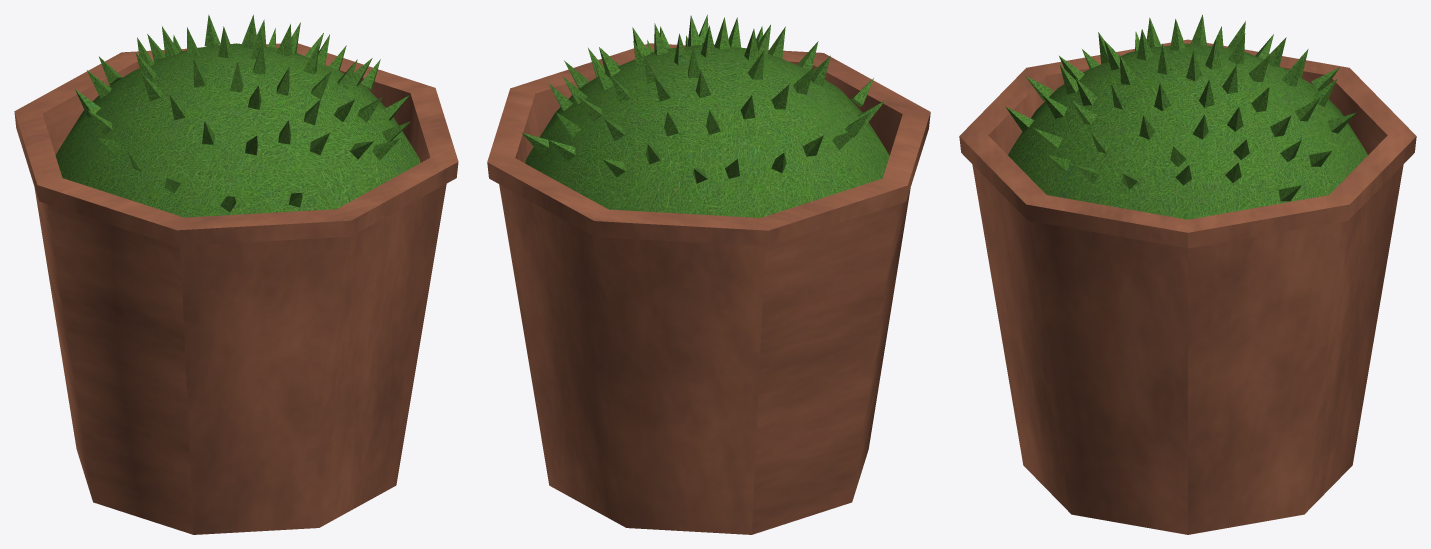
Rendered from cactus_in_pot.glb.
3 renders of one model, left to right at view 1: azimuth 30°, elevation 25°; view 2: azimuth 150°, elevation 25°; view 3: azimuth 270°, elevation 25°, orthographic.
Parts seen in each view (by area): view 1: cactus_in_pot; view 2: cactus_in_pot; view 3: cactus_in_pot.
Part boxes in pixels (x1,y1,x2,y2): cactus_in_pot: (14, 14, 458, 534); cactus_in_pot: (487, 14, 930, 534); cactus_in_pot: (959, 14, 1416, 534).
Bounding box in the file's own units: 0.125 × 0.1292 × 0.125.
2 materials, 2 textured.
